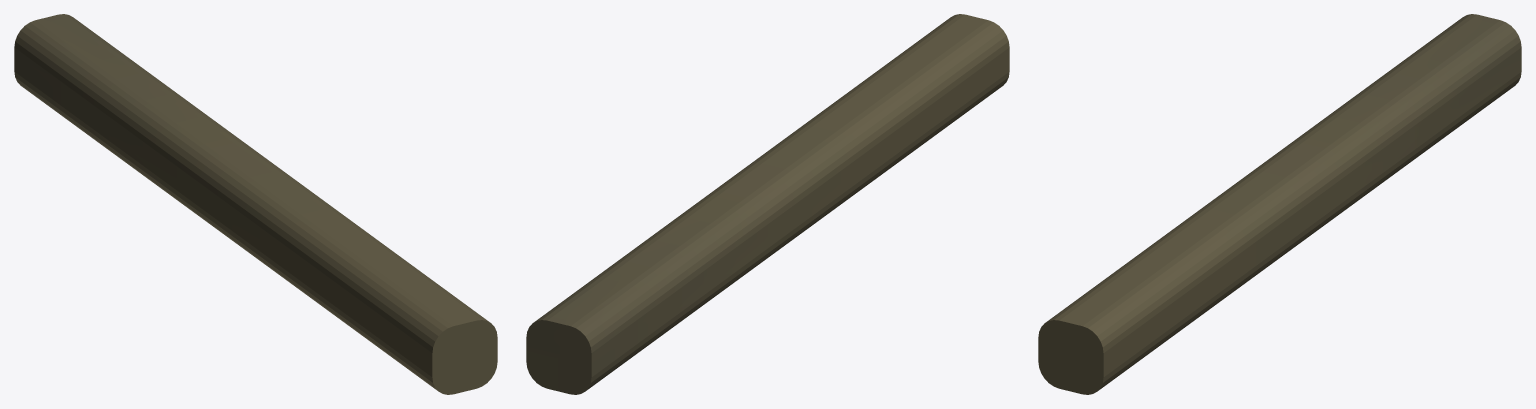
Rendered from RailRail.glb.
3 views of the same model, side by side, from view 1: azimuth 30°, elevation 25°; view 2: azimuth 150°, elevation 25°; view 3: azimuth 330°, elevation 25° (orthographic).
Visible parts, largest first — view 1: RailRail_Baked; view 2: RailRail_Baked; view 3: RailRail_Baked.
Boxes of the visible parts, <box> form: RailRail_Baked: <box>14,14,497,394</box>; RailRail_Baked: <box>526,14,1009,394</box>; RailRail_Baked: <box>1038,14,1521,394</box>.
Bounding box in the file's own units: 0.3604 × 0.3604 × 4.01.
Materials: 1 (1 with a texture image).
